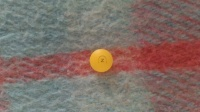Nurofen: (88, 47, 114, 74)
